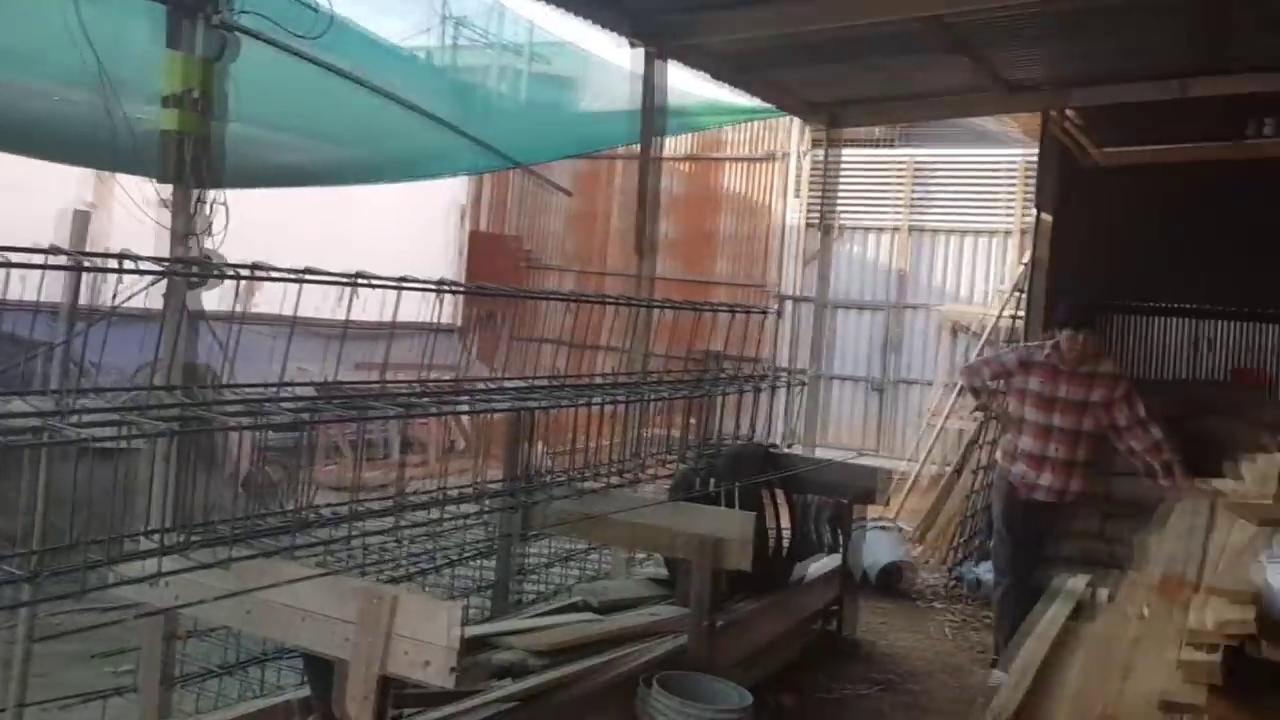helmet-off: (1042, 297, 1122, 377)
person: (961, 303, 1210, 665)
